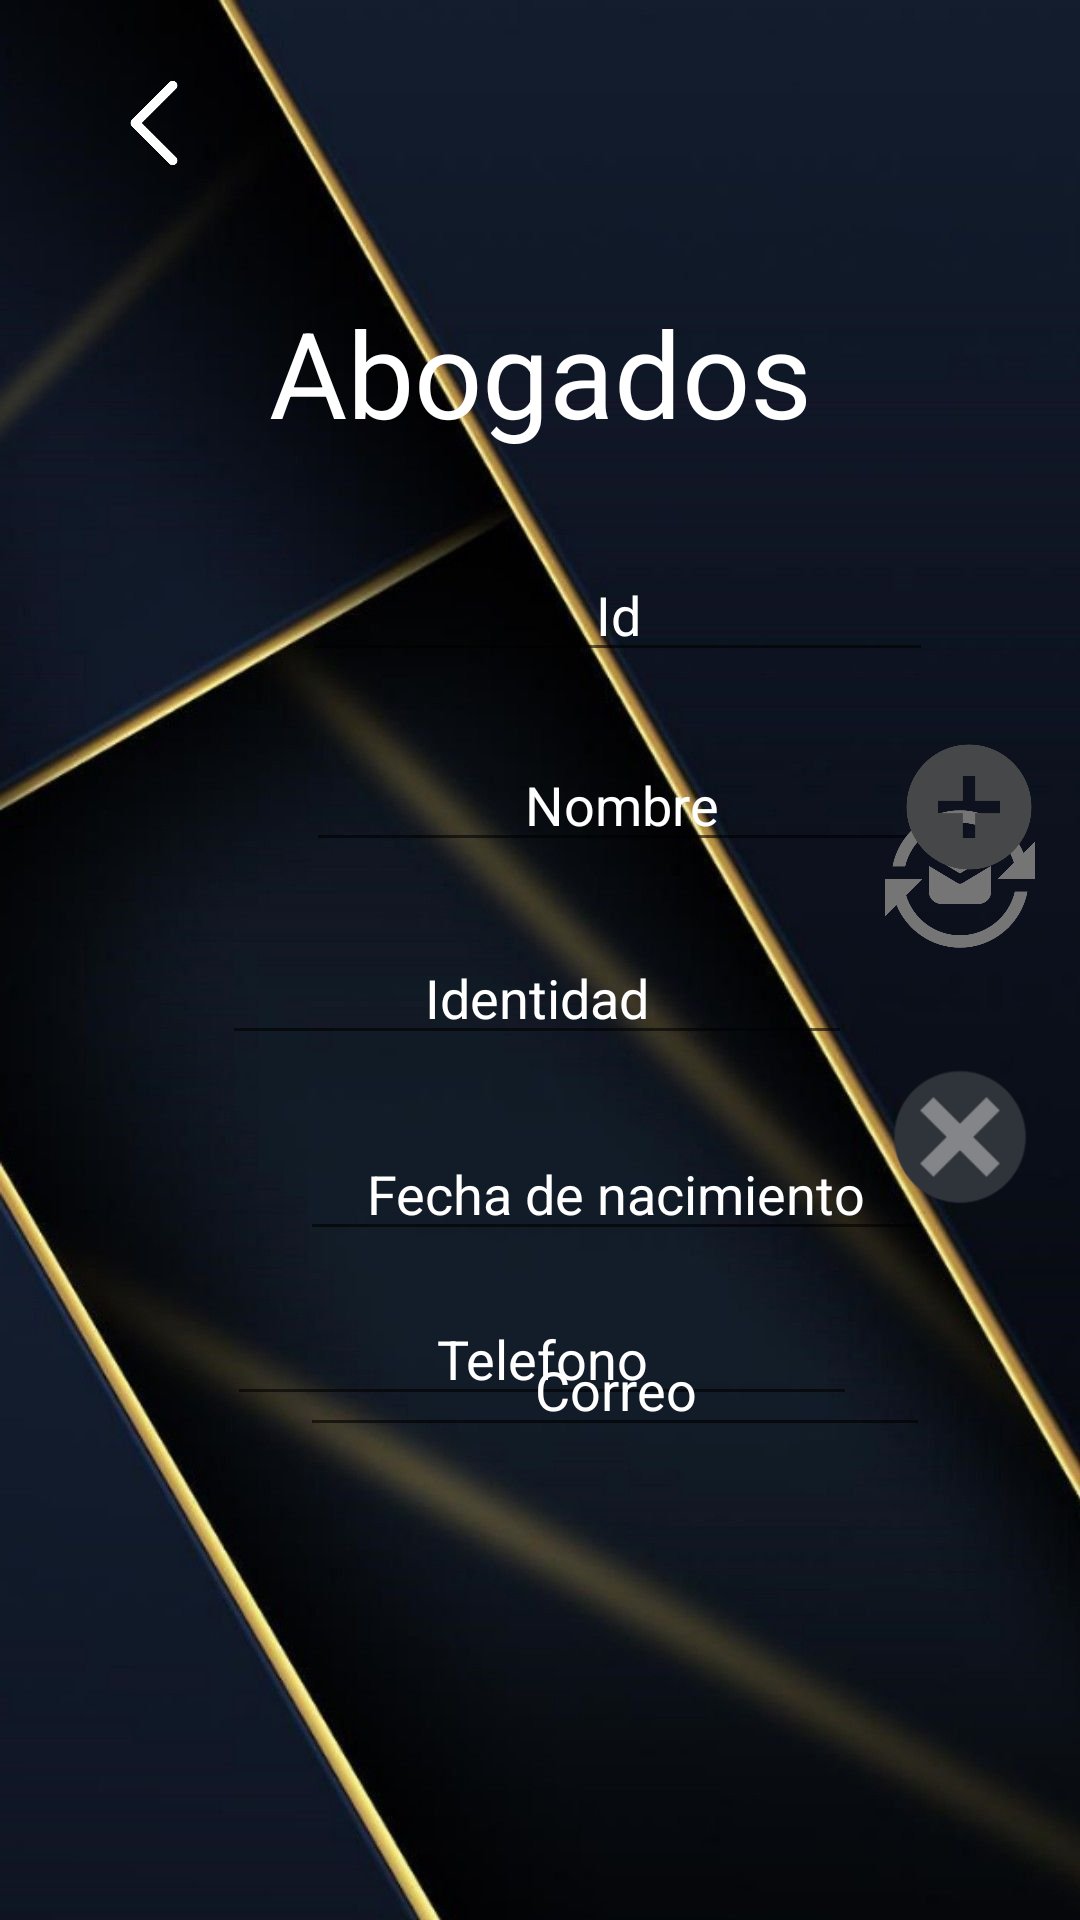

Screen size 1080px×1920px. Icon name, then its box in pixels as (x1, y1, x2, y2):
eliminar: (885, 1072, 1025, 1212)
